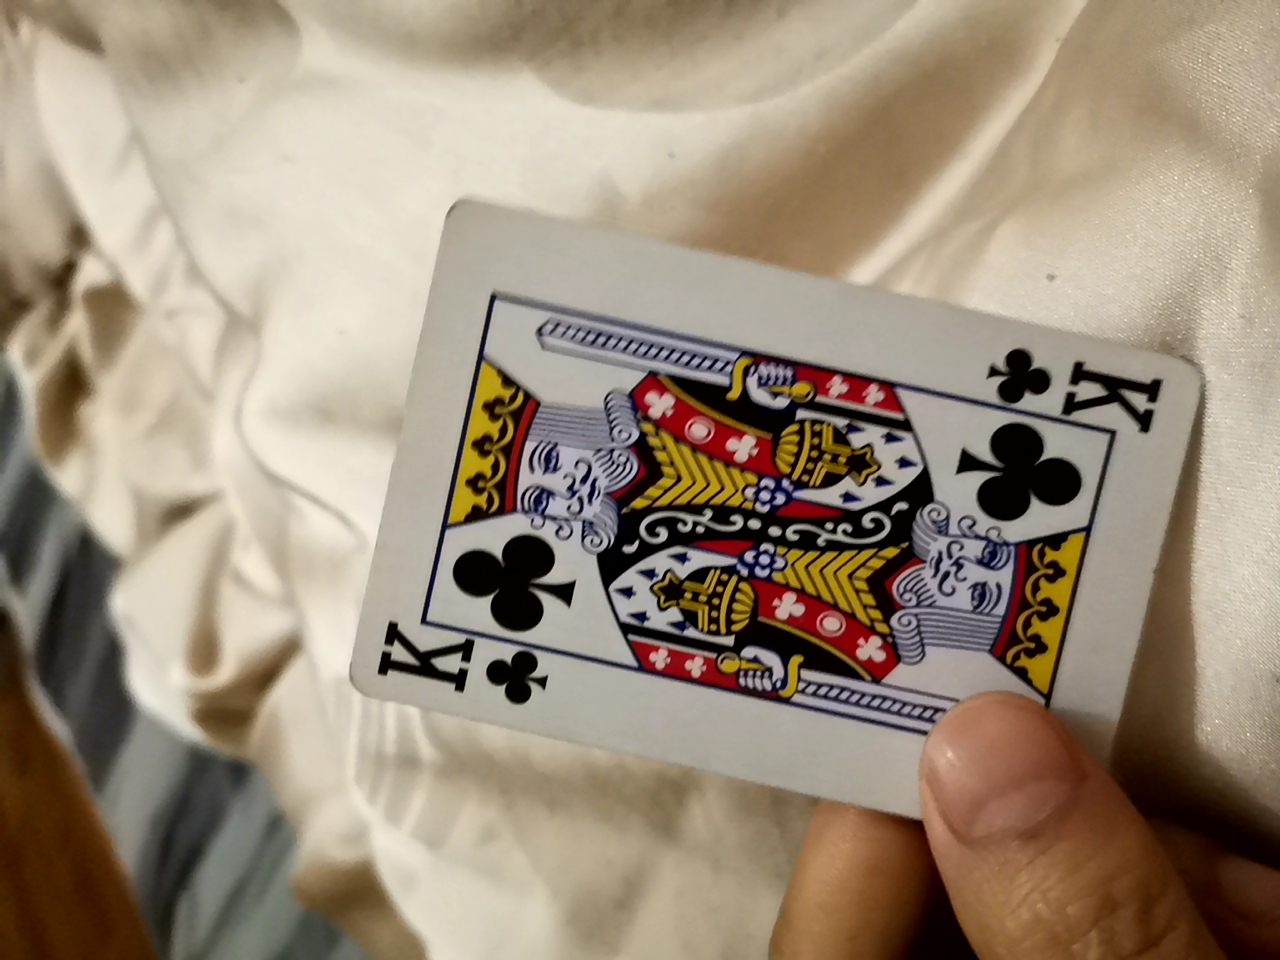mh k: (381, 209, 1193, 831)
